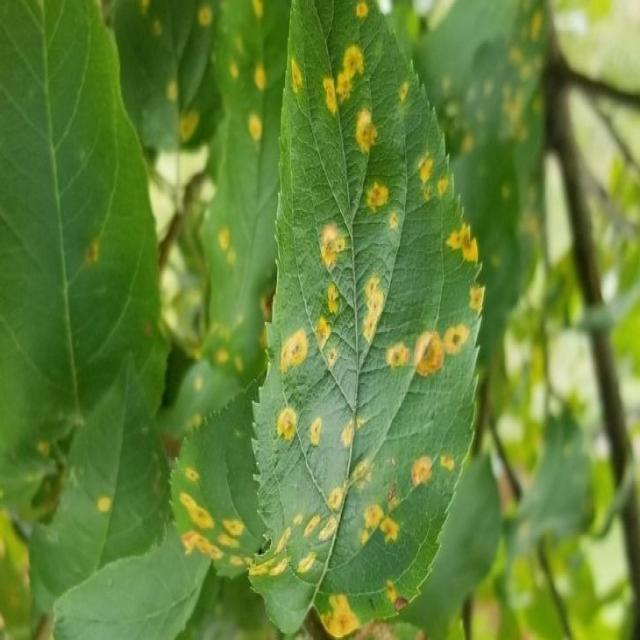Gymnosporangium_Rusts: (173, 0, 486, 631)
